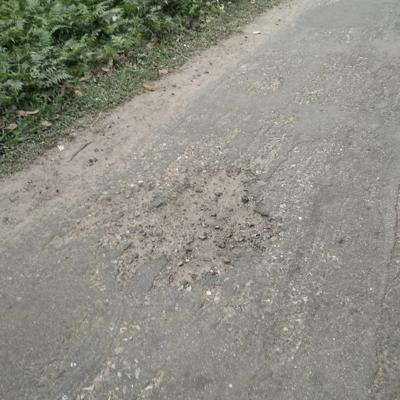Pothole: (93, 163, 295, 280)
